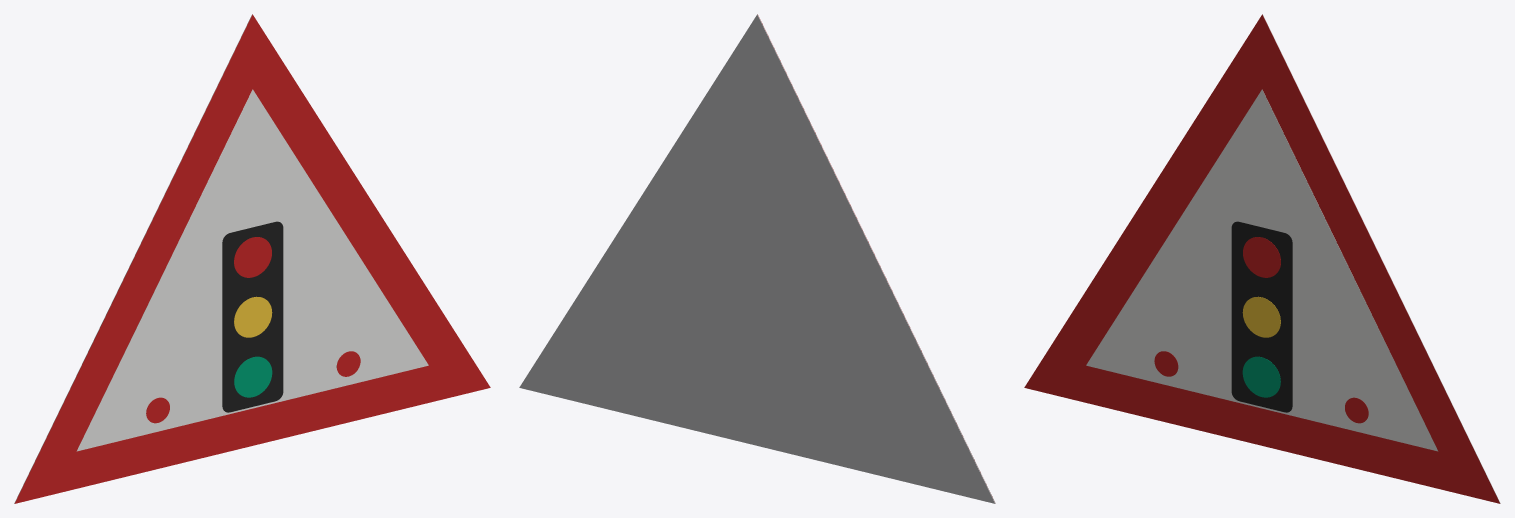
The model's file is A7bis.glb.
3 renders of one model, left to right at view 1: azimuth 30°, elevation 25°; view 2: azimuth 150°, elevation 25°; view 3: azimuth 330°, elevation 25°, orthographic.
Visible parts, largest first — view 1: A7bis_p00, A7bis_p01, A7bis_r02, A7bis_d05, A7bis_d04, A7bis_d03, A7bis_dos; view 2: A7bis_dos; view 3: A7bis_p00, A7bis_p01, A7bis_r02, A7bis_d05, A7bis_d04, A7bis_d03, A7bis_dos.
Part boxes in pixels (x1,y1,x2,y2): A7bis_p00: [14, 14, 490, 503]; A7bis_p01: [76, 89, 428, 451]; A7bis_r02: [222, 221, 283, 412]; A7bis_d05: [234, 356, 272, 397]; A7bis_d04: [234, 296, 272, 337]; A7bis_d03: [234, 237, 271, 277]; A7bis_dos: [14, 14, 252, 503]; A7bis_dos: [519, 14, 995, 503]; A7bis_p00: [1024, 14, 1500, 503]; A7bis_p01: [1086, 89, 1438, 451]; A7bis_r02: [1231, 221, 1292, 412]; A7bis_d05: [1242, 356, 1280, 397]; A7bis_d04: [1242, 296, 1280, 337]; A7bis_d03: [1243, 237, 1280, 277]; A7bis_dos: [1262, 14, 1500, 503].
Bounding box in the file's own units: 1 × 0.866 × 0.0045.
